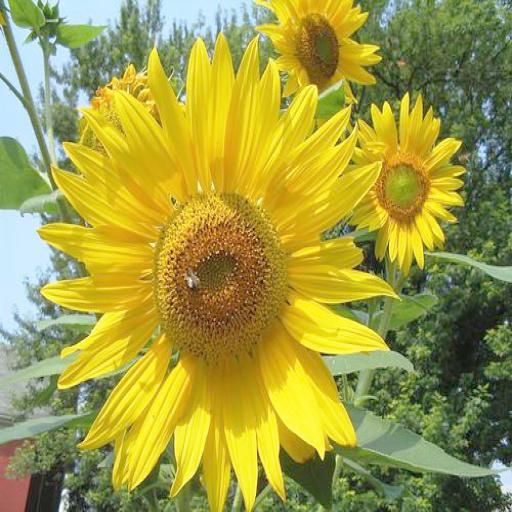sunflower: (47, 34, 396, 512), (350, 84, 466, 264)
